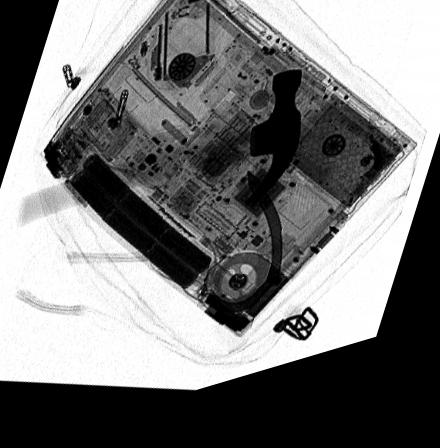Hammer: (18, 86, 301, 226)
